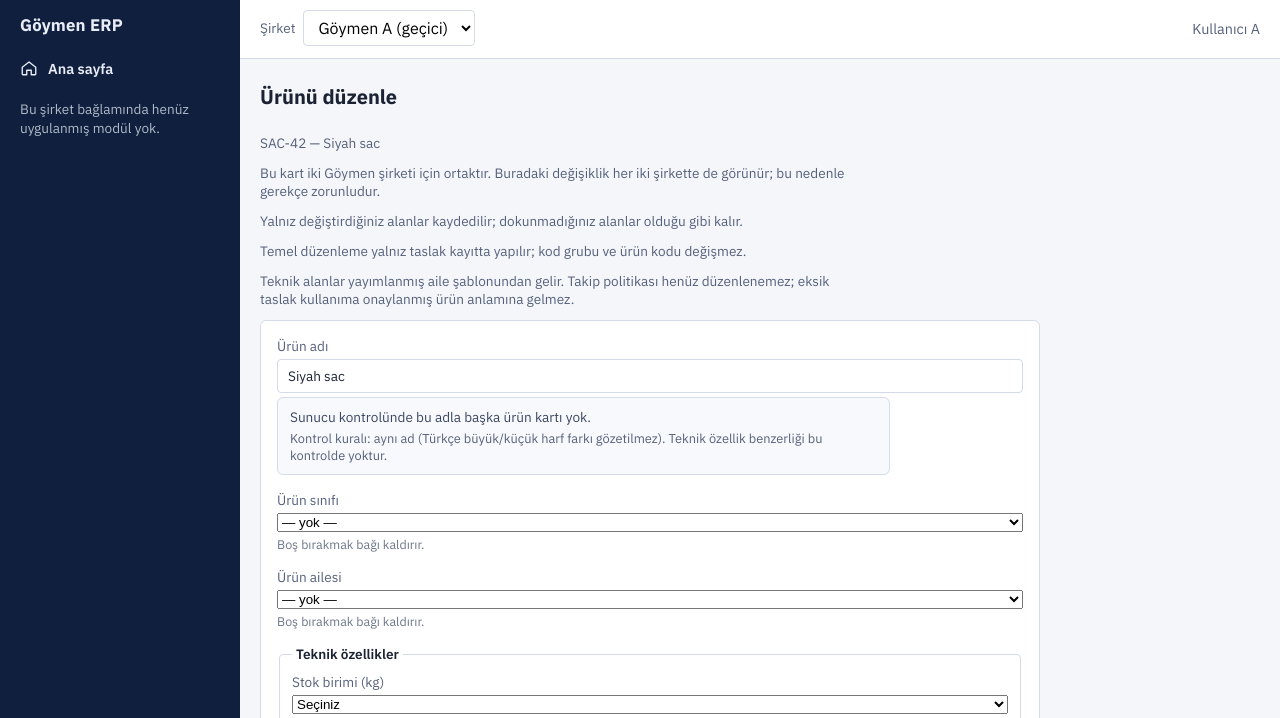
the diff, not the form › requires a reason for a real change
Replace the text in the field labelled "Ürün adı" with "Galvaniz sac": point(650, 376) [277,359,1023,393]
(page scrolled)
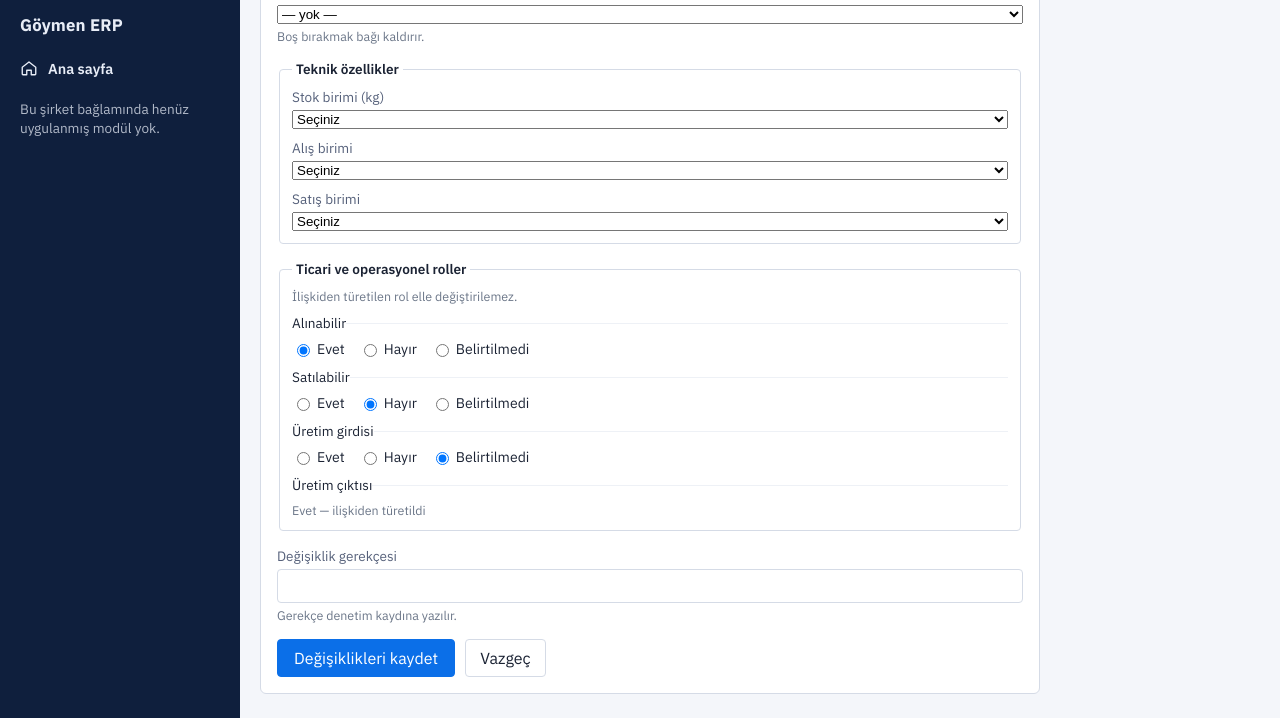
Click the button "Değişiklikleri kaydet": point(366, 658) [277,639,455,677]
(page scrolled)
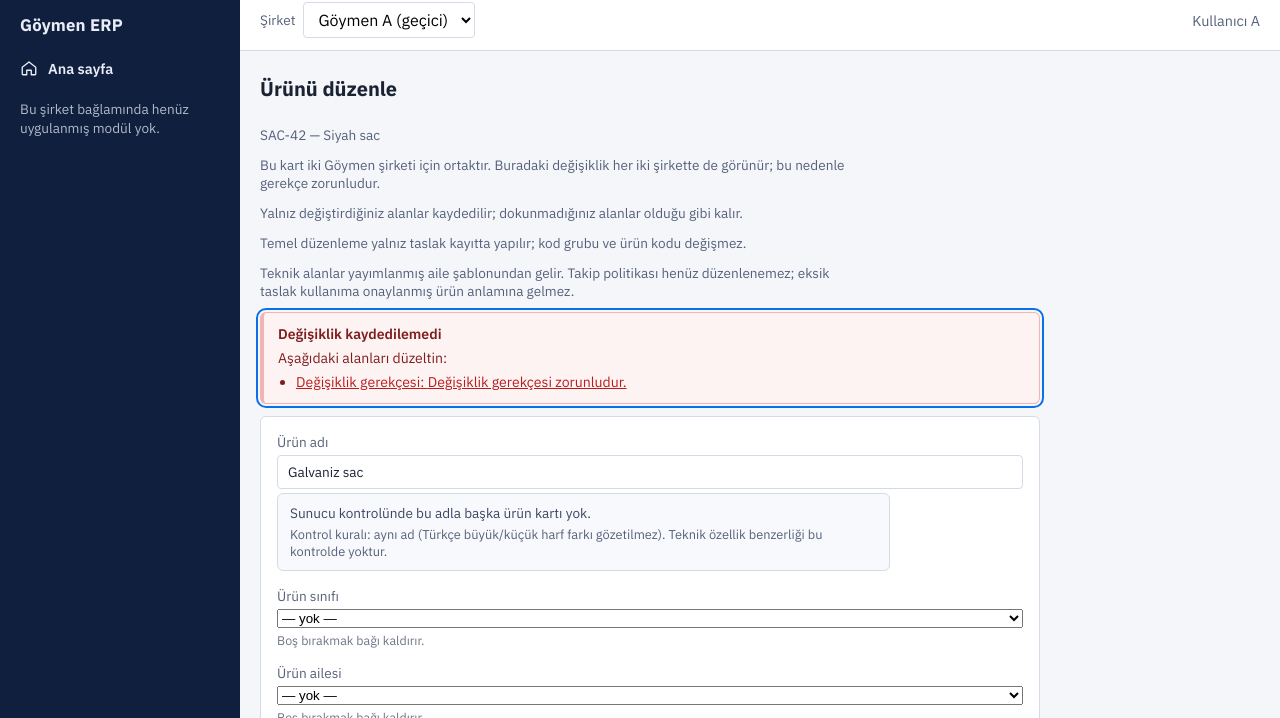
Check: the message with test id "product-edit-error-summary" shows "Değişiklik gerekçesi", box [296,373,626,391]
